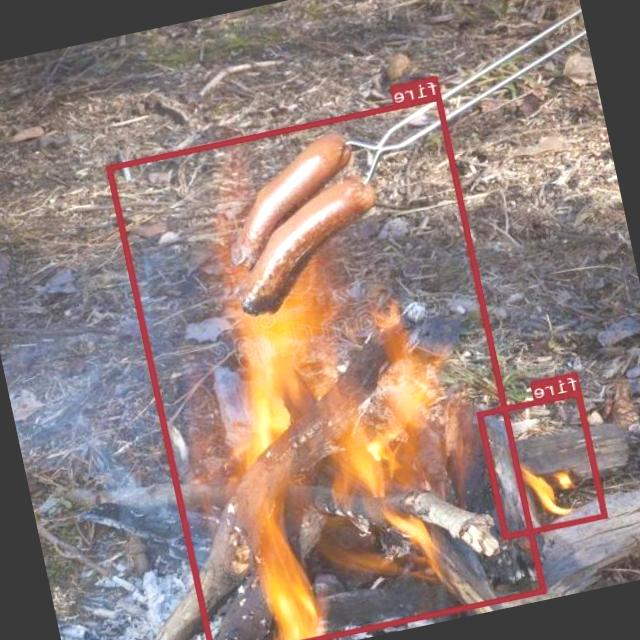fire: (106, 93, 547, 640), (478, 388, 608, 538)
